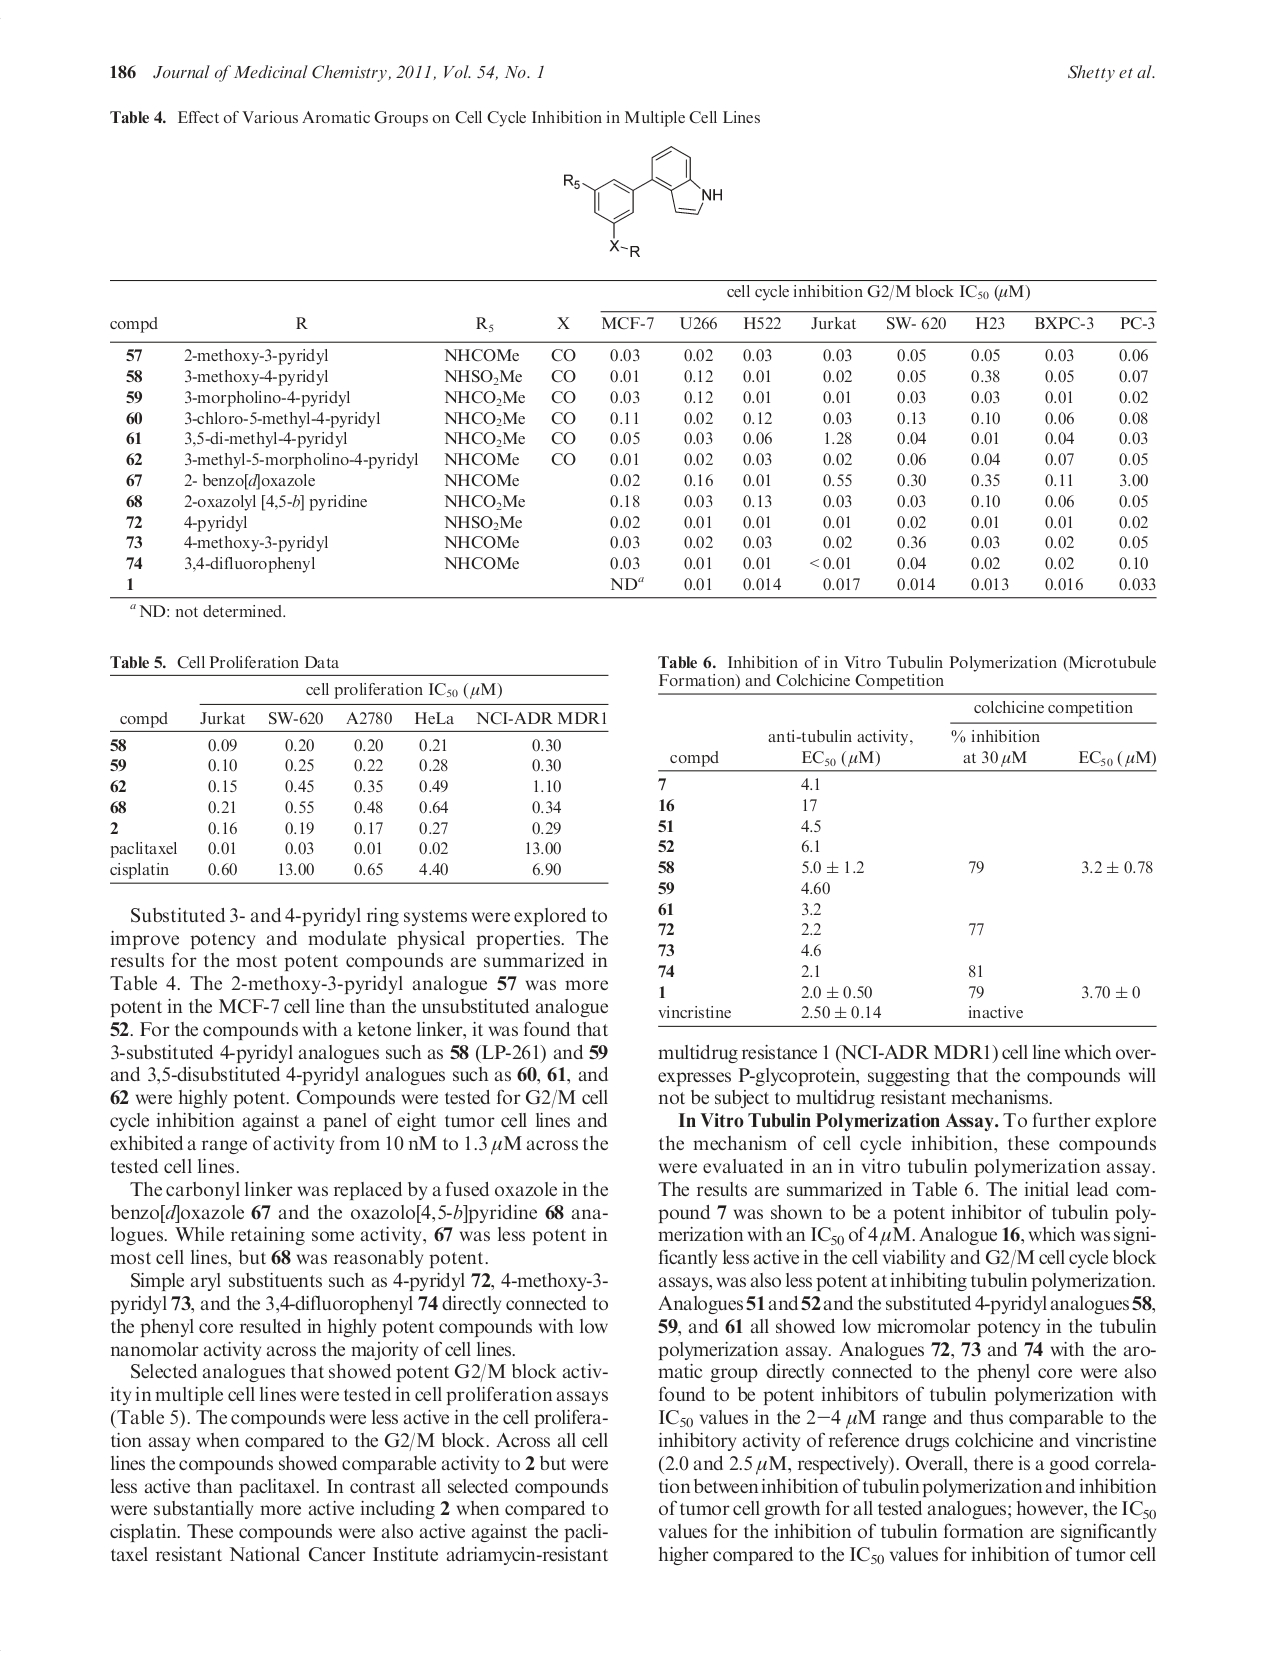exist_molecular: (560, 142, 725, 261)
